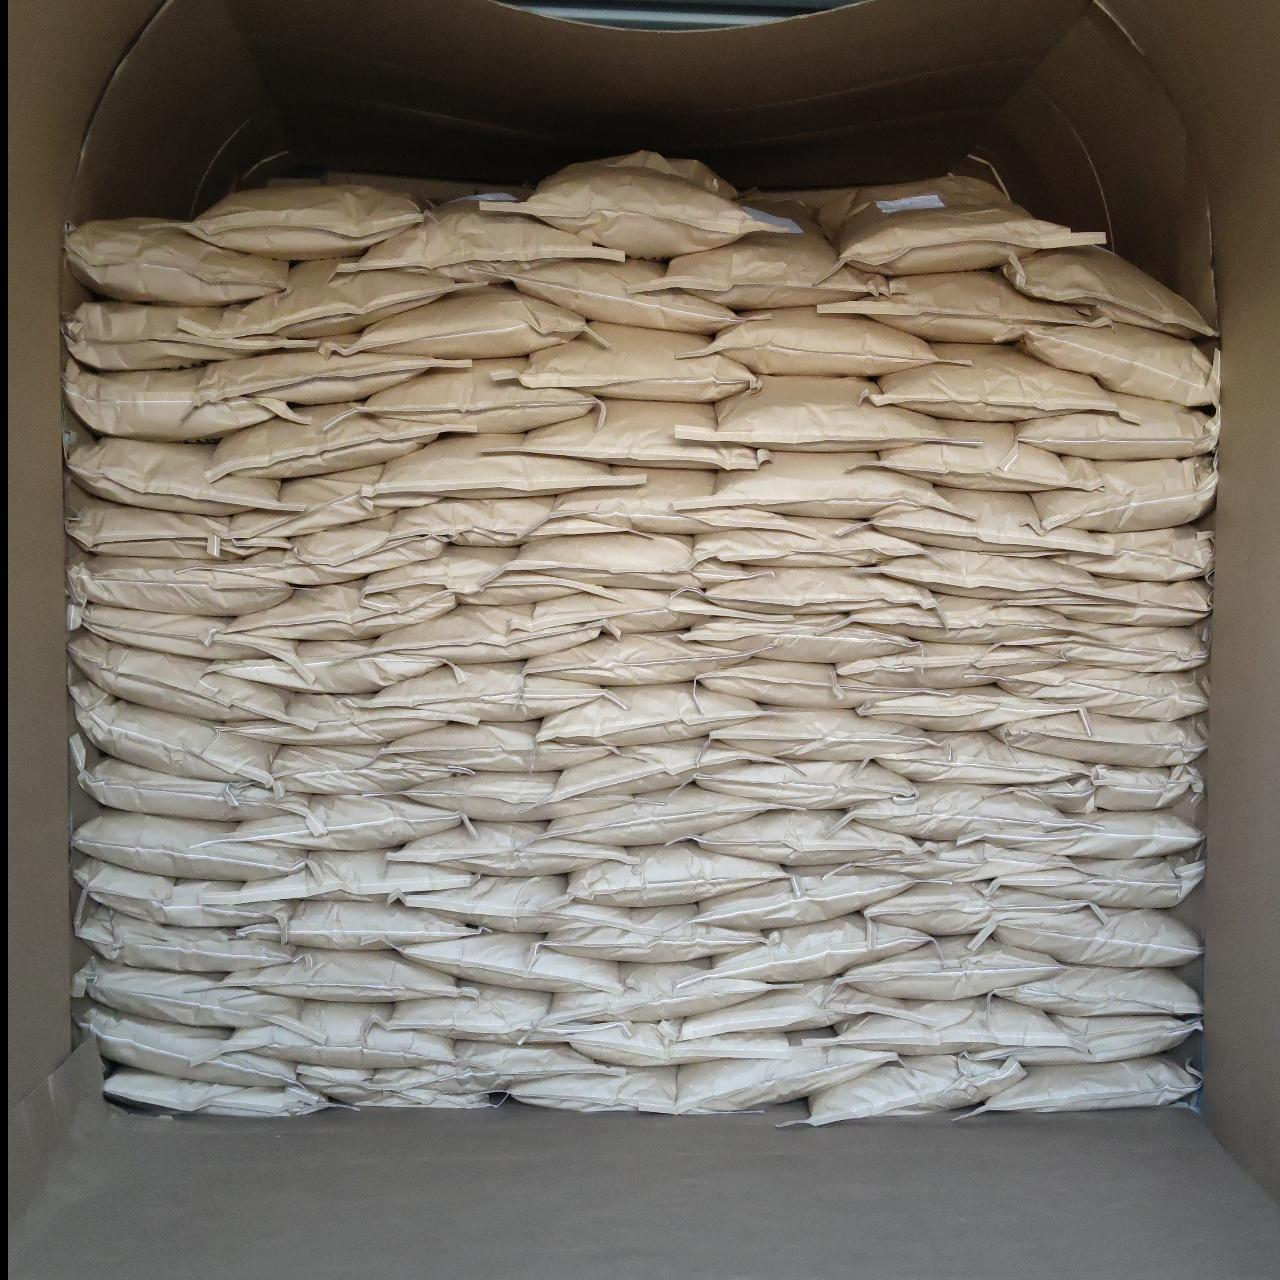sack: (741, 173, 1104, 275), (484, 152, 796, 254), (629, 199, 888, 309), (338, 198, 622, 284), (188, 173, 464, 258), (72, 956, 324, 1041), (207, 260, 467, 342), (74, 680, 278, 782), (67, 602, 314, 686), (821, 272, 1110, 342), (714, 376, 976, 450), (72, 629, 288, 719), (872, 343, 1118, 420), (64, 362, 308, 438), (1002, 248, 1214, 334), (66, 220, 286, 302), (518, 322, 754, 399), (198, 340, 470, 404), (80, 1005, 294, 1085), (342, 288, 588, 358), (356, 360, 598, 430), (515, 400, 764, 468), (864, 422, 1112, 490), (206, 406, 438, 478), (692, 452, 944, 518), (1016, 324, 1216, 406), (790, 1056, 1022, 1126), (510, 260, 736, 332), (672, 1039, 898, 1110), (68, 438, 280, 515), (690, 308, 937, 374), (222, 467, 436, 540), (506, 535, 765, 595), (864, 490, 1104, 556), (368, 436, 642, 493), (64, 302, 309, 366), (535, 962, 779, 1026), (530, 470, 764, 536), (74, 810, 300, 878), (704, 914, 930, 982), (76, 903, 297, 972), (224, 1002, 454, 1068), (79, 753, 300, 821), (76, 856, 288, 926), (384, 986, 636, 1044), (358, 663, 622, 719), (958, 1056, 1198, 1116), (234, 516, 445, 583), (68, 492, 278, 558), (852, 549, 1102, 604), (544, 787, 772, 846), (568, 842, 788, 904), (678, 980, 910, 1039), (207, 583, 454, 638), (360, 546, 595, 604), (552, 740, 758, 804), (832, 998, 1068, 1054), (376, 604, 598, 663), (844, 937, 1060, 998), (70, 554, 290, 614), (511, 587, 783, 635), (392, 822, 638, 874), (696, 866, 912, 926), (400, 876, 628, 932), (396, 934, 622, 990), (538, 685, 760, 742), (222, 949, 474, 1000), (546, 906, 779, 960), (1016, 396, 1218, 458), (1034, 458, 1214, 527), (226, 796, 467, 847), (220, 852, 476, 900), (988, 908, 1198, 966), (842, 784, 1064, 838), (104, 1068, 342, 1118), (212, 640, 444, 692), (994, 665, 1207, 720), (676, 568, 932, 614), (238, 900, 481, 948), (971, 808, 1201, 858), (390, 1042, 620, 1092), (696, 812, 918, 864), (992, 855, 1201, 908), (527, 634, 750, 685), (399, 772, 629, 821), (866, 884, 1084, 934), (696, 518, 920, 566), (850, 595, 1074, 644), (1016, 764, 1203, 822), (1001, 620, 1207, 672), (681, 617, 910, 662), (712, 710, 928, 758), (384, 722, 612, 768), (971, 1016, 1198, 1062), (234, 694, 448, 742), (1000, 714, 1201, 764), (700, 662, 928, 706), (880, 731, 1076, 782), (694, 762, 914, 806), (862, 686, 1080, 730), (566, 1022, 790, 1065), (996, 968, 1198, 1014), (504, 1065, 700, 1112), (274, 745, 464, 794), (855, 842, 1082, 880), (842, 644, 1039, 688), (297, 1065, 496, 1108), (1062, 526, 1212, 578), (392, 498, 550, 544), (1042, 580, 1210, 622)
